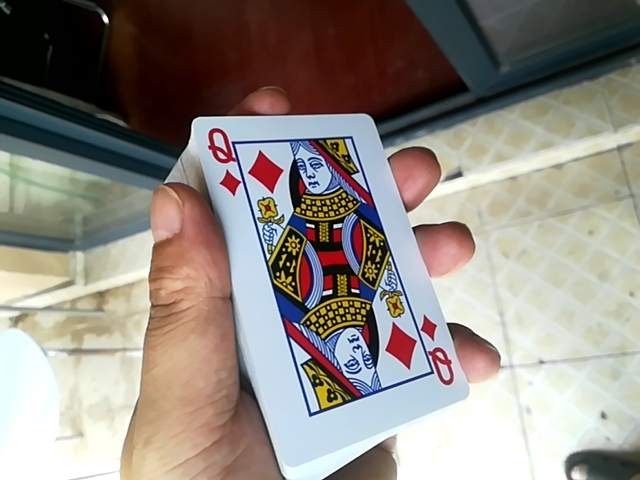fk q: (186, 100, 467, 476)
